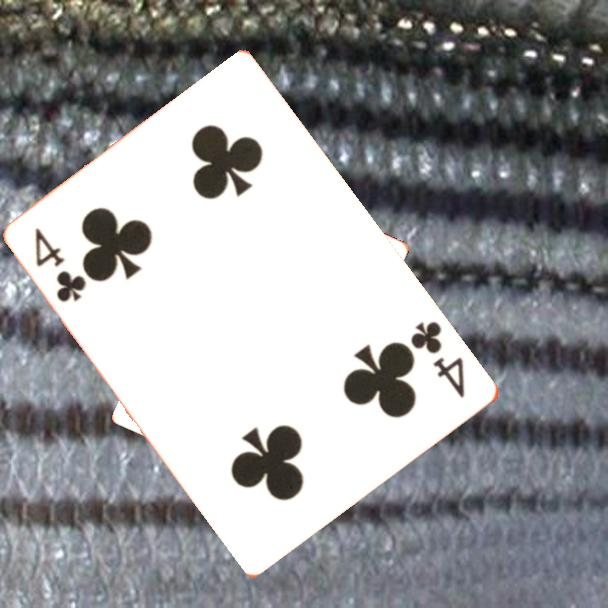c04: (407, 317, 469, 401), (31, 224, 90, 306)
